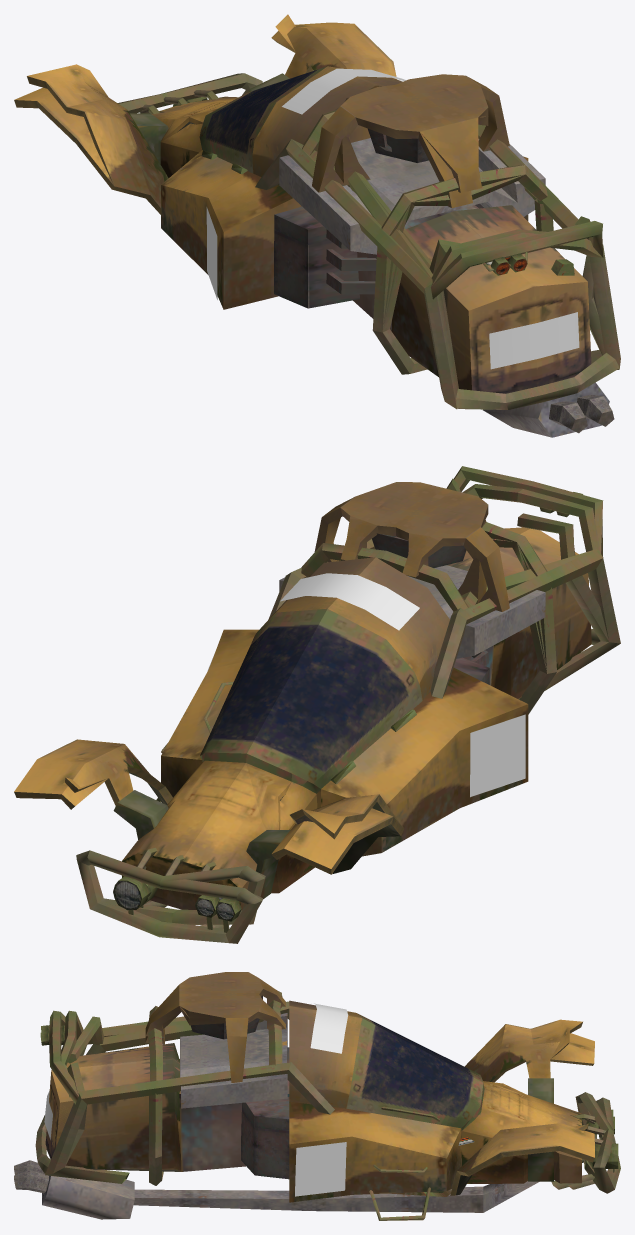
Rendered from cab02.fbx.
3 views of the same model, one above another, from view 1: azimuth 30°, elevation 25°; view 2: azimuth 150°, elevation 25°; view 3: azimuth 270°, elevation 25° (orthographic). The views are drawn at different scales.
Parts seen in each view (by area): view 1: polySurface420_1, polySurface424_1, polySurface420_2, polySurface417_1, polySurface418_1, logos_1, polySurface416_1, polySurface417_2, polySurface425_1, polySurface423_1, polySurface410_1, polySurface424_2 (+2 smaller); view 2: polySurface420_1, polySurface425_1, polySurface418_1, polySurface410_1, polySurface424_1, polySurface416_1, logos_1, polySurface417_1, polySurface420_2, polySurface420_3, polySurface425_2, polySurface424_2 (+3 smaller); view 3: polySurface420_1, polySurface418_1, polySurface423_1, polySurface425_1, polySurface410_1, polySurface416_1, logos_1, polySurface424_1, polySurface417_1, polySurface420_3, polySurface420_2, polySurface417_2 (+2 smaller).
Part boxes in pixels (<box>): polySurface420_1: <box>255,74,620,409</box>; polySurface424_1: <box>161,150,483,309</box>; polySurface420_2: <box>292,116,604,355</box>; polySurface417_1: <box>14,82,168,214</box>; polySurface418_1: <box>199,66,528,220</box>; logos_1: <box>206,68,579,369</box>; polySurface416_1: <box>249,22,396,91</box>; polySurface417_2: <box>27,64,126,185</box>; polySurface425_1: <box>142,73,262,177</box>; polySurface423_1: <box>483,382,614,437</box>; polySurface410_1: <box>205,69,317,153</box>; polySurface424_2: <box>212,174,292,230</box>; polySurface420_1: <box>268,466,620,714</box>; polySurface425_1: <box>76,760,317,943</box>; polySurface418_1: <box>156,557,449,802</box>; polySurface410_1: <box>205,625,409,773</box>; polySurface424_1: <box>316,650,528,856</box>; polySurface416_1: <box>14,739,172,839</box>; logos_1: <box>207,573,525,797</box>; polySurface417_1: <box>246,799,403,899</box>; polySurface420_2: <box>408,484,600,671</box>; polySurface420_3: <box>446,478,608,673</box>; polySurface425_2: <box>100,866,265,925</box>; polySurface424_2: <box>424,668,526,729</box>; polySurface420_1: <box>35,972,334,1185</box>; polySurface418_1: <box>289,1000,484,1220</box>; polySurface423_1: <box>14,1160,539,1219</box>; polySurface425_1: <box>462,1089,620,1193</box>; polySurface410_1: <box>362,1020,471,1117</box>; polySurface416_1: <box>450,1123,594,1195</box>; logos_1: <box>44,1003,348,1196</box>; polySurface424_1: <box>241,1047,289,1179</box>; polySurface417_1: <box>464,1033,594,1103</box>; polySurface420_3: <box>57,1016,202,1169</box>; polySurface420_2: <box>61,1002,289,1165</box>; polySurface417_2: <box>465,1019,582,1065</box>.
Bounding box in the file's own units: 2.45 × 1.99 × 5.4.
